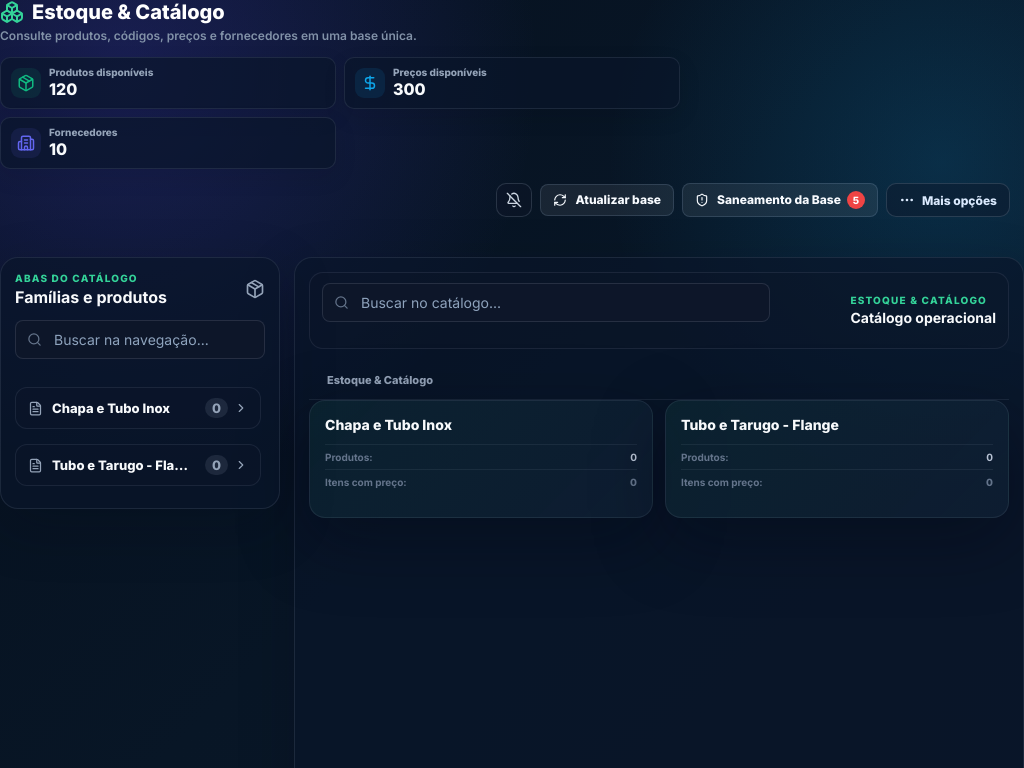
Scenario: StockPage Component Tests › mostra precos e fornecedores especificos do item no drawer e atualiza preco com preview
The width and height of the screenshot is (1024, 768).
// Buscar e abrir detalhes
In the field with placeholder "Buscar no catálogo...": (546, 302) [322,283,770,322], type "Tubo"
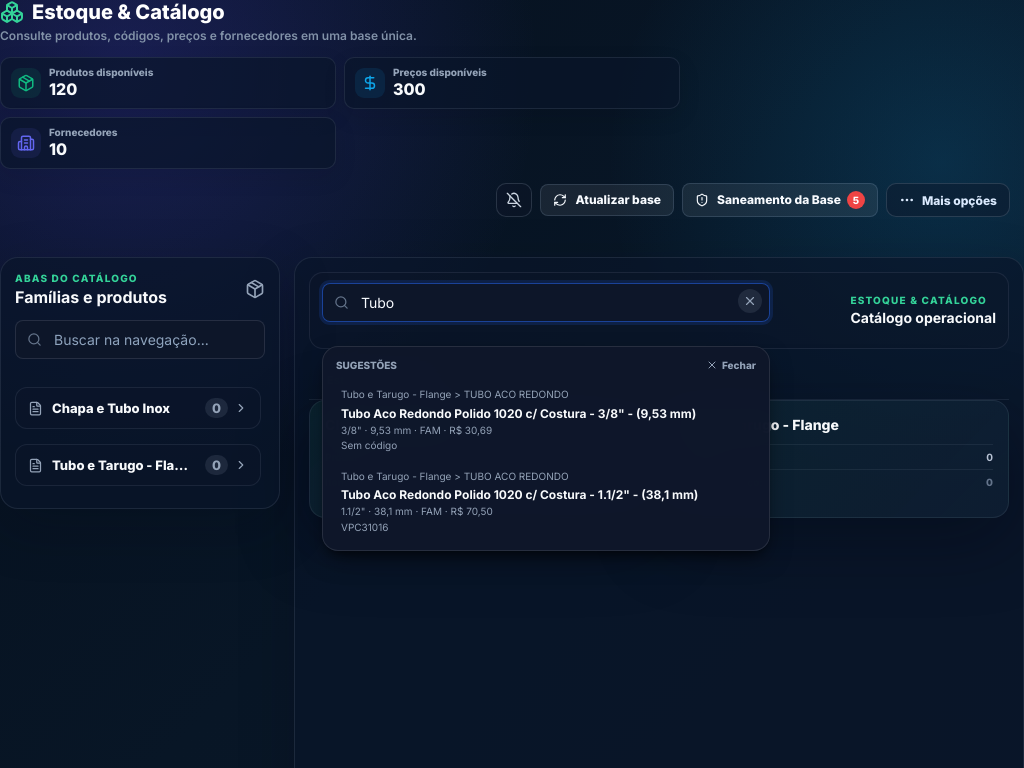
Click the text "Tubo Aco Redondo Polido 1020 c/ Costura - 3/8\" - (9,53 mm)": (546, 413) [341,406,751,420]
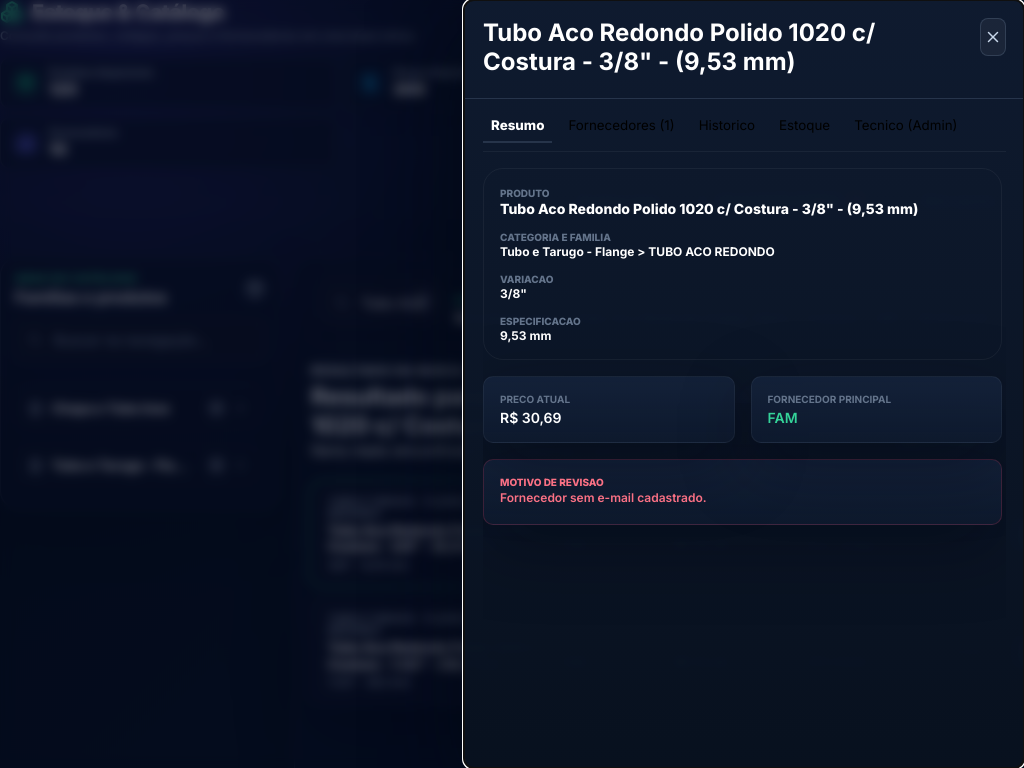
// Navegar para a aba Fornecedores no Drawer
Click the button "Fornecedores (1)": (622, 130) [560,117,683,143]
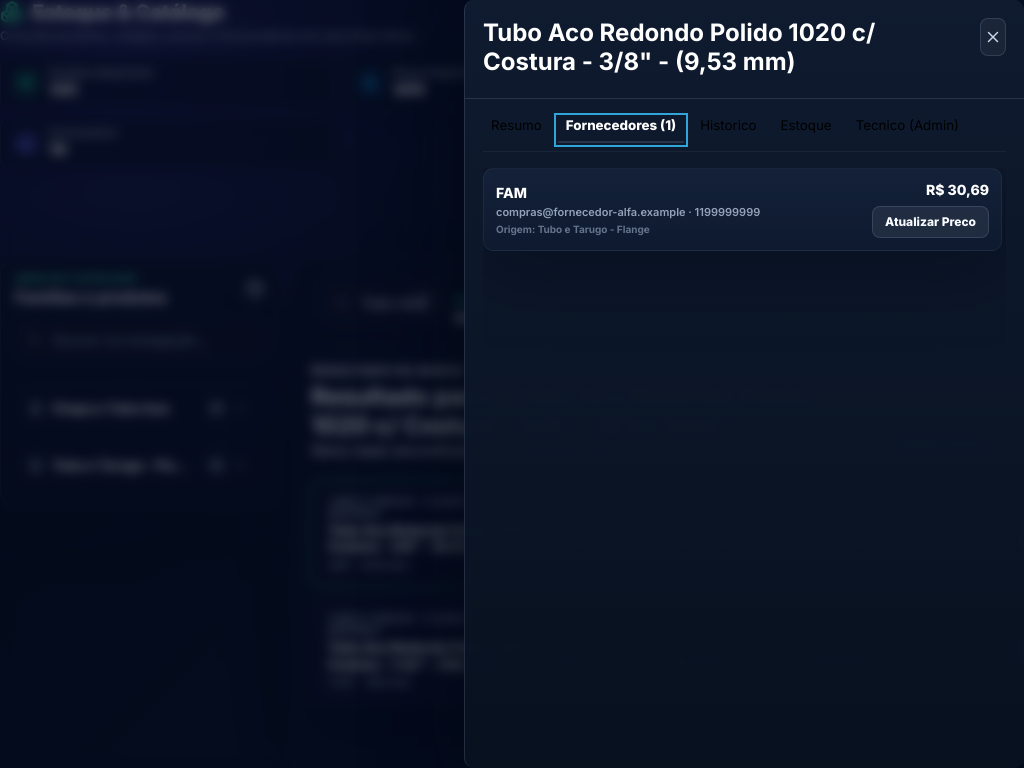
// Clicar em Atualizar Preco abre o Modal
Click the button "Atualizar Preco": (930, 222) [872,206,989,238]
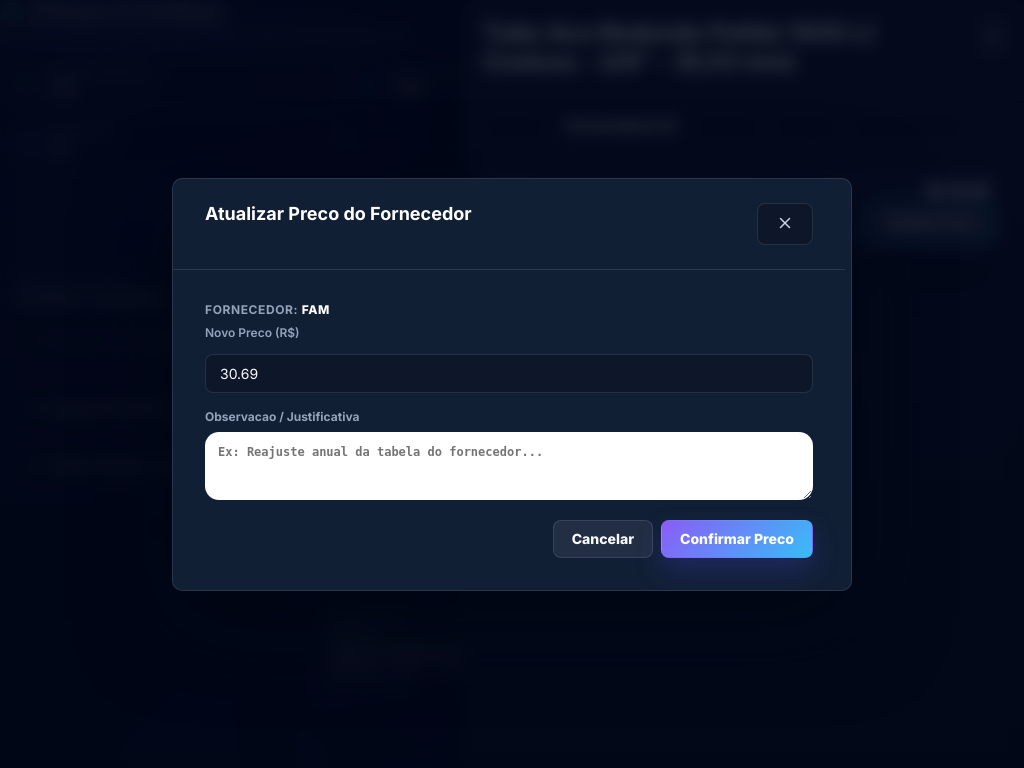
Now the heading "Atualizar Preco do Fornecedor" is shown, box [205,202,472,224]
// Alterar o preco no input para disparar o preview
Replace the text in the field labelled "Novo Preco (R$)" with "35.00": (509, 373) [205,354,813,392]
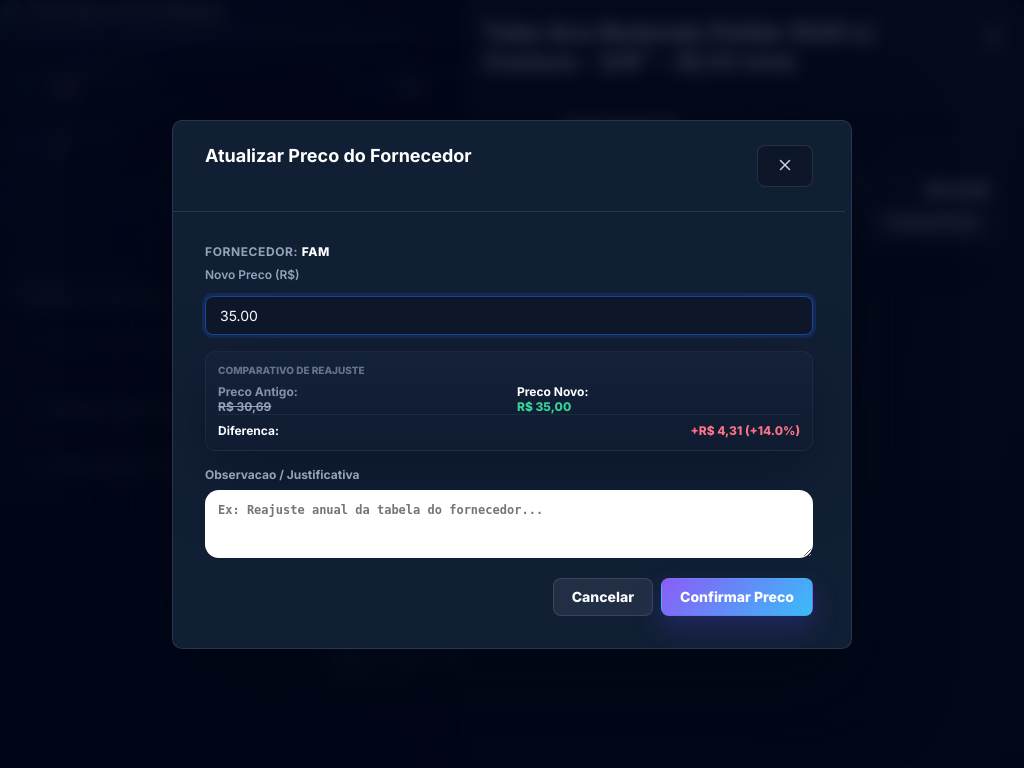
Now the text "Comparativo de Reajuste" is shown, box [218,364,365,376]
Now the text "+R$ 4,31 (+14.0%)" is shown, box [690,422,800,438]
// Confirmar atualizacao
Click the button "Confirmar Preco": (737, 596) [661,578,813,616]
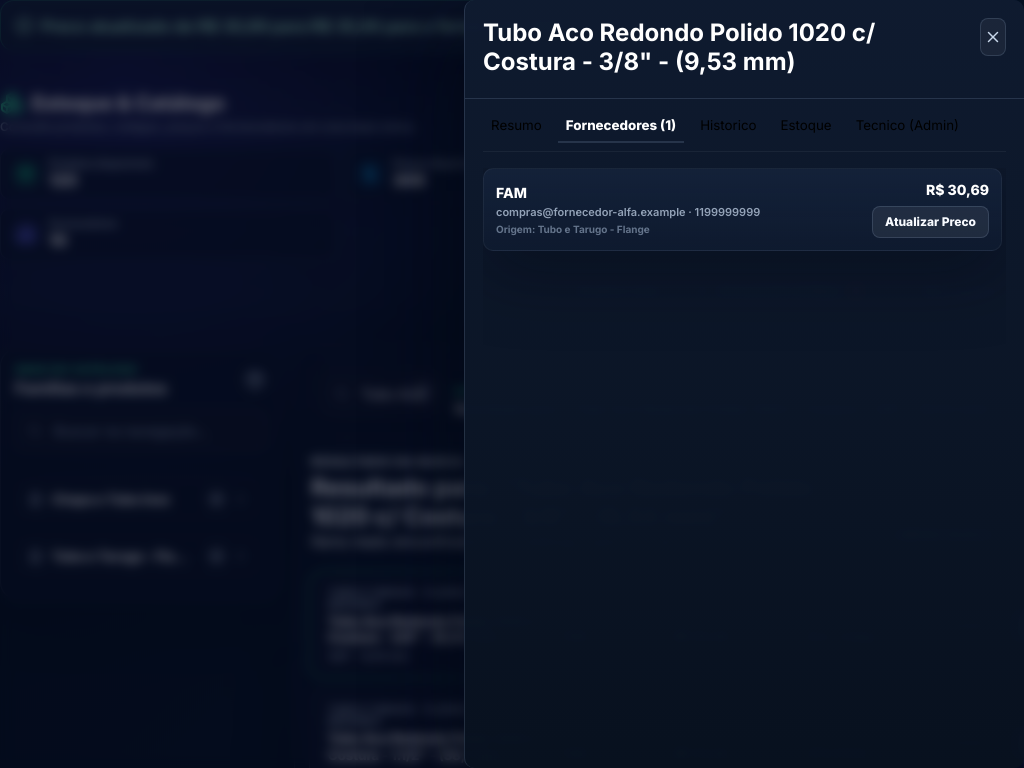
Now the text "Preco atualizado de R$ 30,69 para R$ 35,00 para o fornecedor FAM" is shown, box [41,16,567,36]
